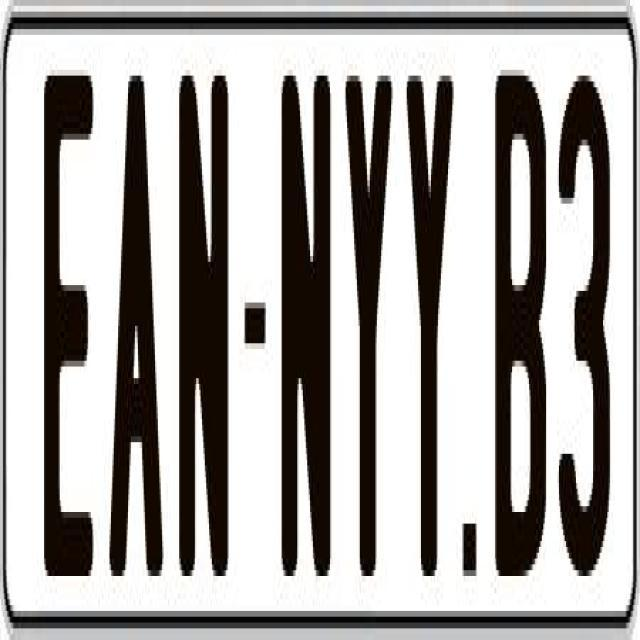3: (554, 58, 608, 582)
A: (106, 64, 170, 570)
B: (491, 76, 544, 600)
E: (43, 70, 94, 576)
N: (280, 70, 336, 582), (175, 70, 228, 594)
Y: (405, 75, 458, 606), (346, 58, 392, 576)
